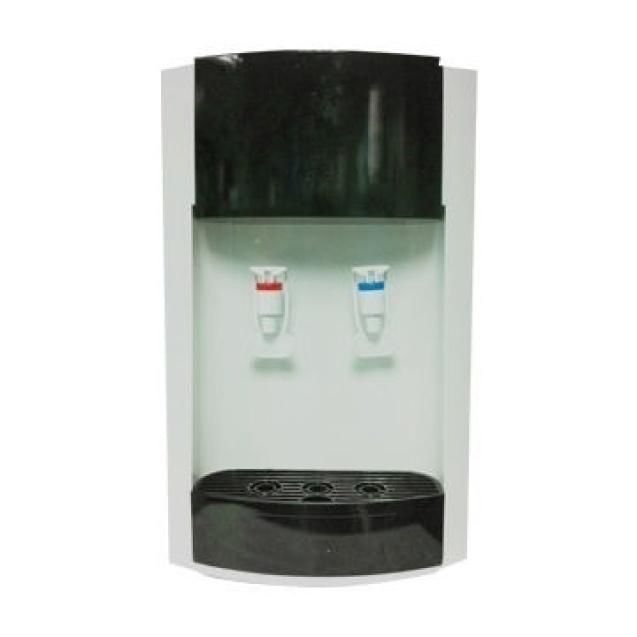Dispenser: (160, 50, 476, 587)
